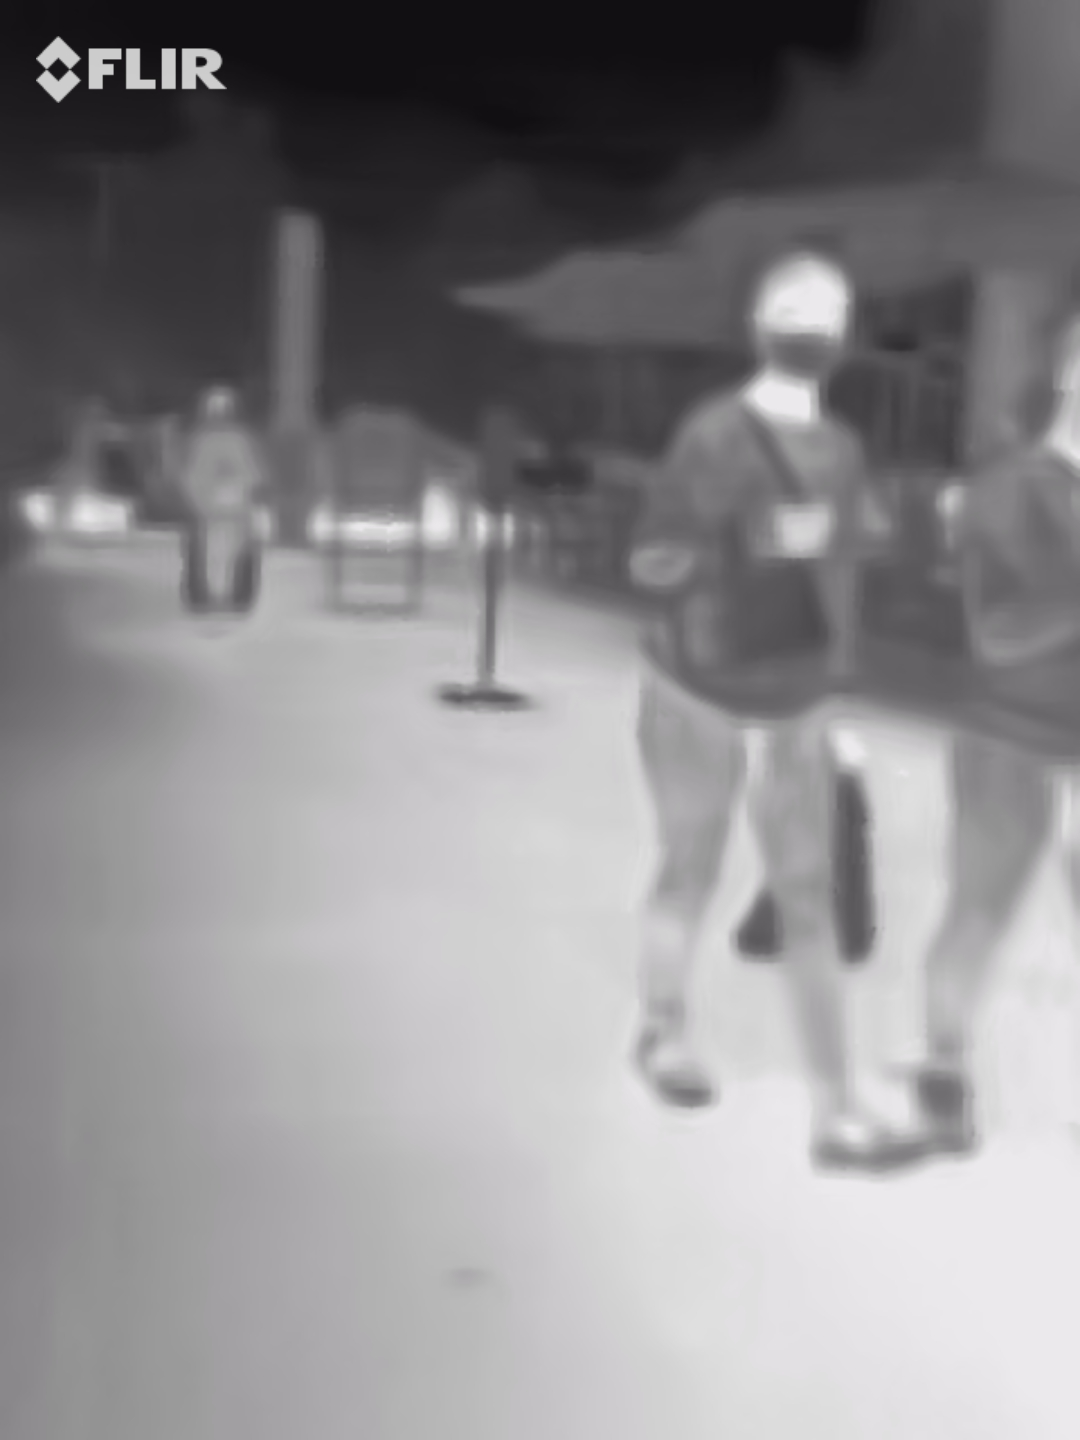head: (748, 241, 853, 392)
